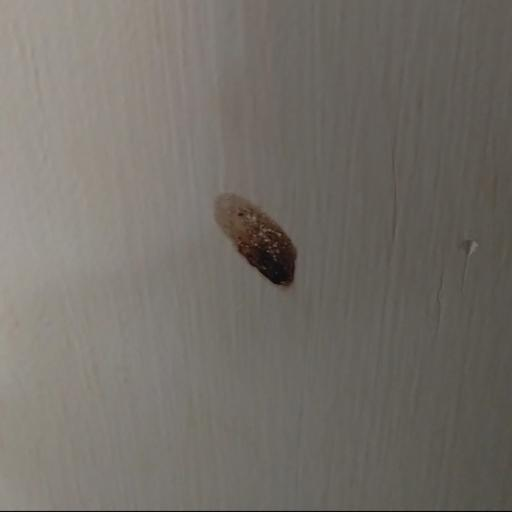stain: (198, 154, 318, 295)
